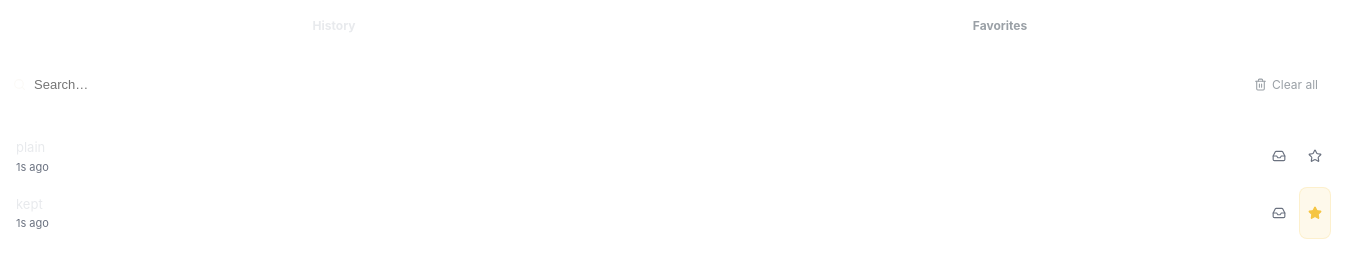
Scenario: ClipboardHistoryView › shows only favorited items on the favorites tab
This screenshot has width=1348, height=256.
Click the tab "Favorites". click: (1000, 25)
box: [669, 11, 1331, 39]
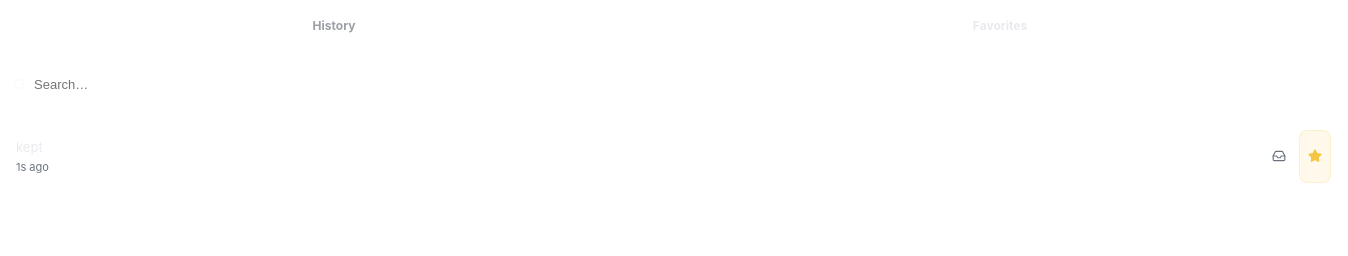
Check: the button "plain" is not shown
Check: the button "Clear all" is gone
